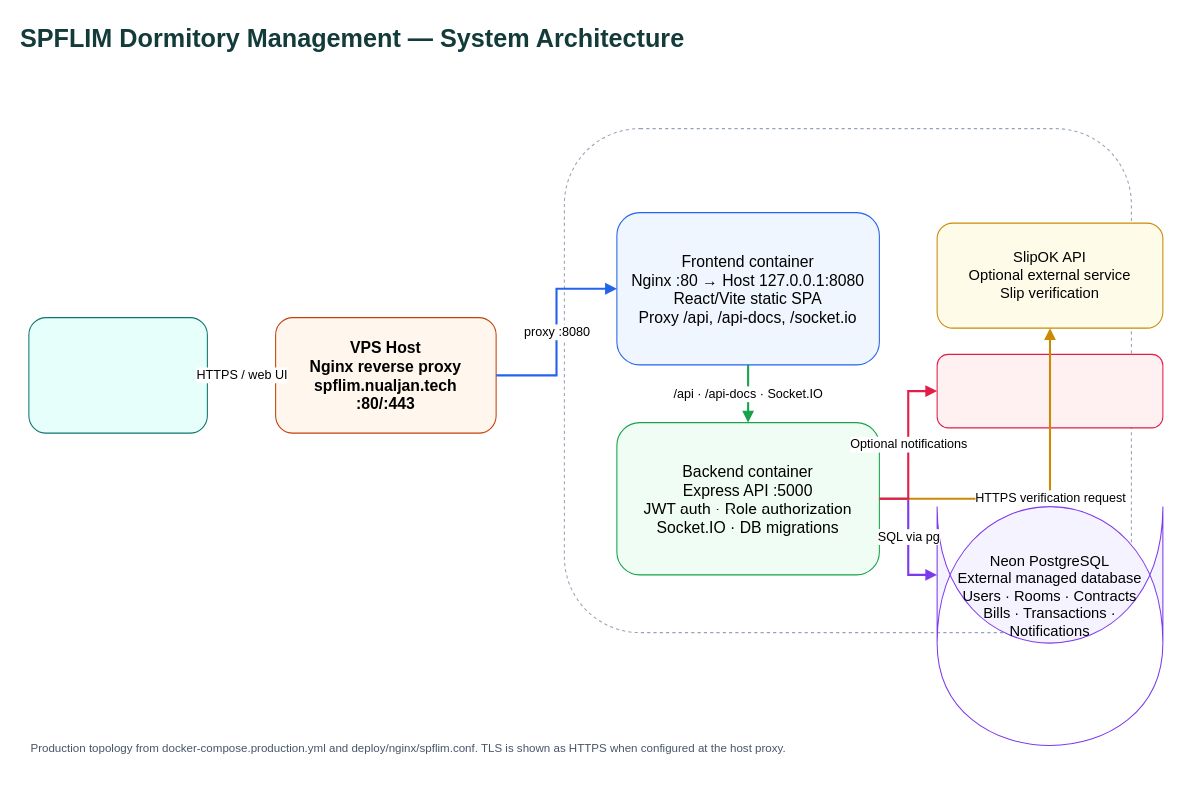
The diagram is 1181 pixels wide and 786 high, and some of its shapes have lost their labels. The shapes that lost their labels are listed below. From the top down, each one's box as (x1, y1, x2, y2) in pixels, then its label:
(28, 317, 207, 433): Browser Admin / Tenant React SPA
(563, 128, 1131, 633): Docker Compose production network
(936, 353, 1163, 428): LINE Messaging API Optional admin notifications
